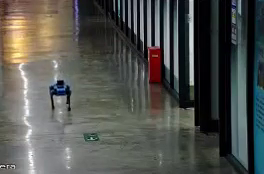robot dog: (47, 79, 72, 111)
